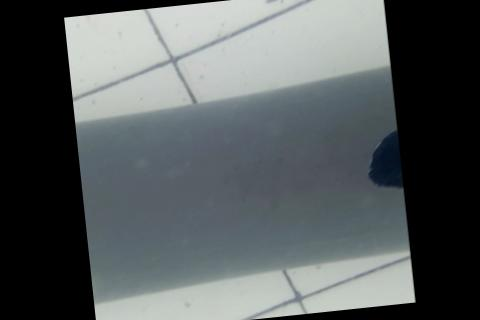kebocoran: (358, 126, 404, 195)
